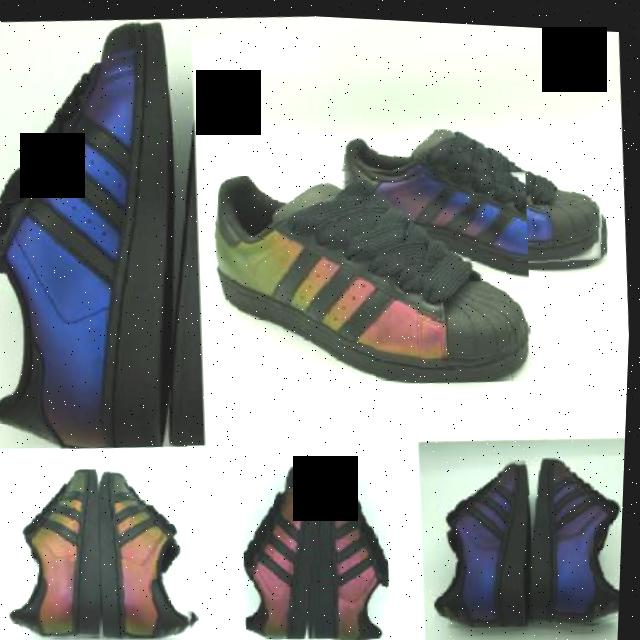shoe: (0, 9, 202, 457), (203, 145, 541, 397), (335, 108, 616, 282), (427, 448, 545, 627), (2, 463, 114, 640), (97, 463, 209, 640), (527, 444, 628, 624), (238, 455, 333, 640), (307, 455, 401, 640)
